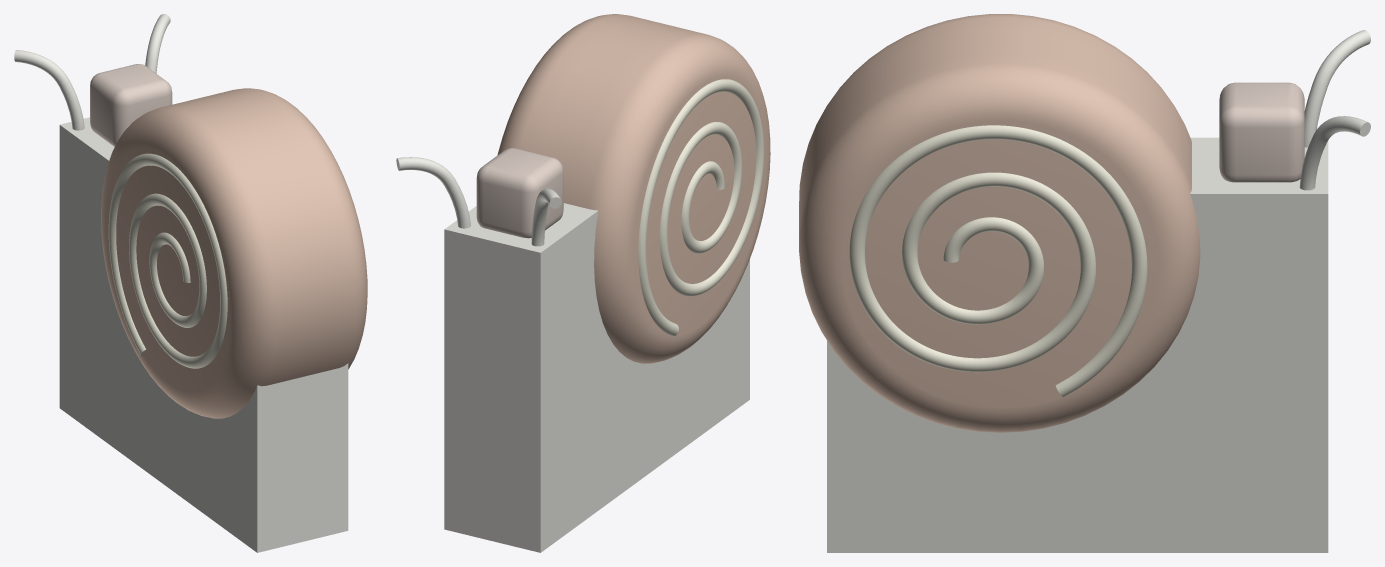
File: snail.glb
The picture shows the model from 3 angles, left to right: view 1: azimuth 30°, elevation 25°; view 2: azimuth 150°, elevation 25°; view 3: azimuth 270°, elevation 25°; orthographic projection. The views are drawn at different scales.
Parts seen in each view (by area): view 1: snail-Mat (×2), snail-Mat.2, snail-Mat.1; view 2: snail-Mat.2, snail-Mat (×2), snail-Mat.1; view 3: snail-Mat (×2), snail-Mat.2, snail-Mat.1.
Part boxes in pixels (x1,y1,x2,y2): snail-Mat (×2): (90, 64, 367, 418); snail-Mat.2: (14, 14, 348, 552); snail-Mat.1: (108, 153, 227, 368); snail-Mat.2: (396, 157, 749, 552); snail-Mat (×2): (476, 14, 770, 363); snail-Mat.1: (638, 79, 764, 336); snail-Mat (×2): (799, 14, 1304, 432); snail-Mat.2: (827, 30, 1370, 552); snail-Mat.1: (849, 125, 1147, 397).
Size of the model in its own units: 0.8262 by 1.93 by 2.07.
